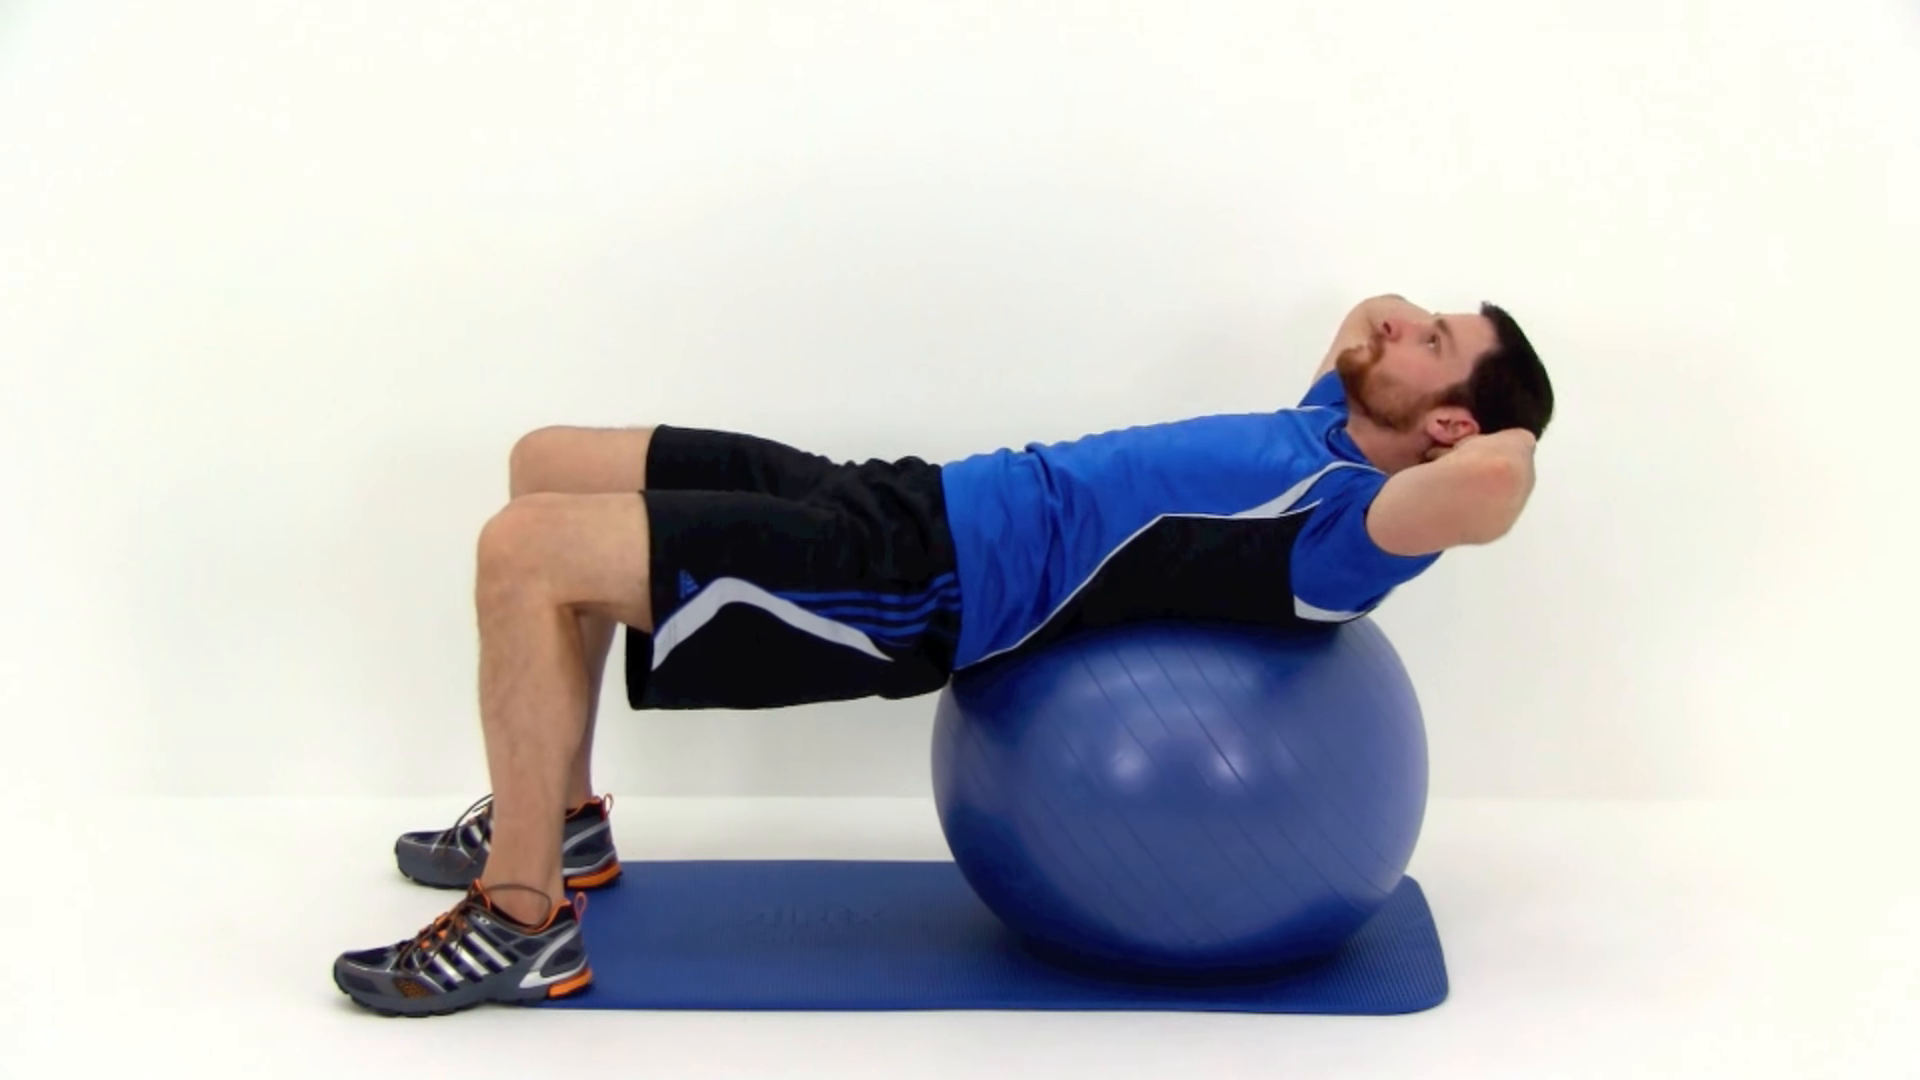yogaball: (914, 576, 1437, 997)
